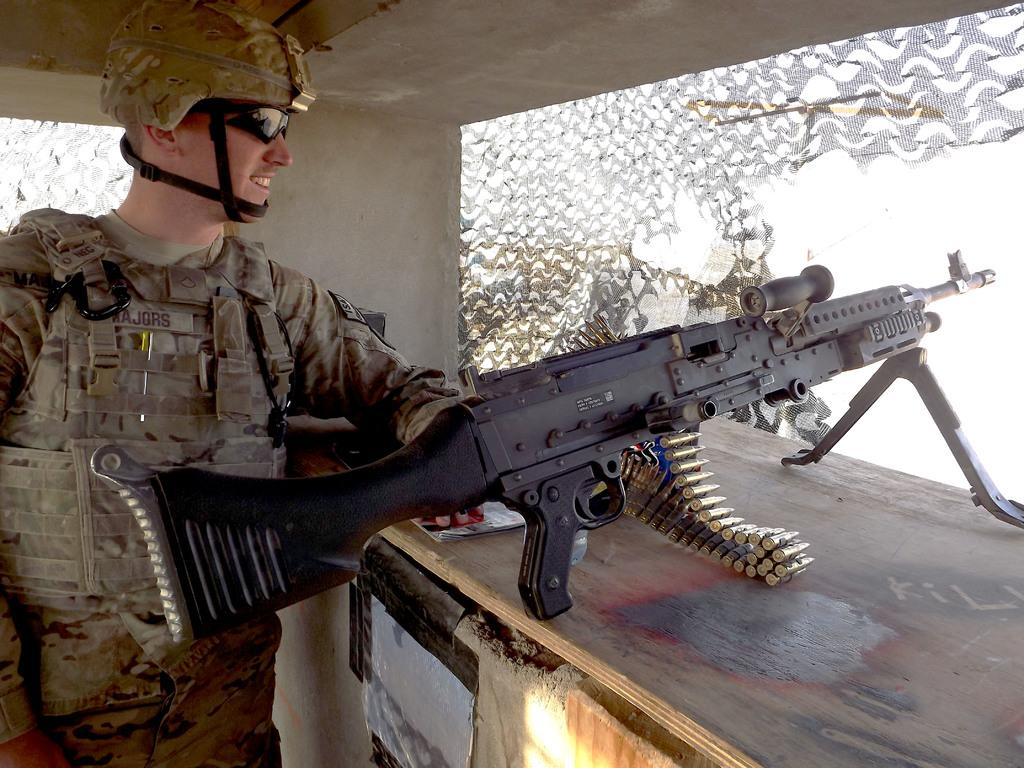Rifle: (85, 269, 998, 641)
